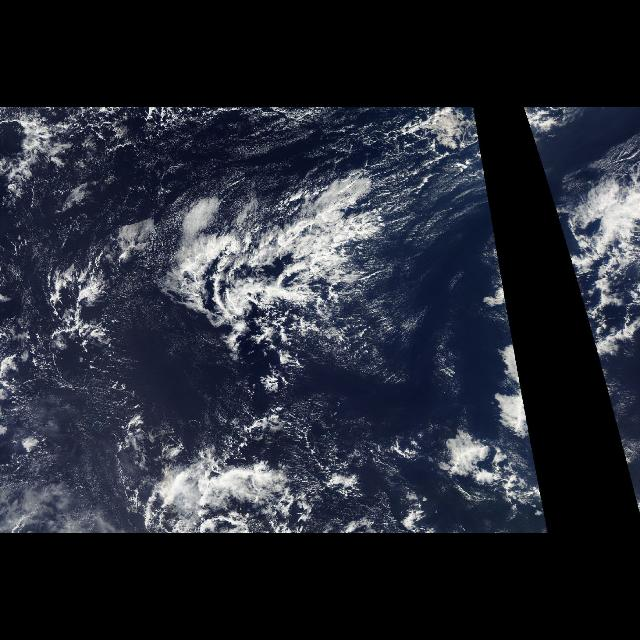Fish: (164, 170, 388, 360)
Gravel: (142, 200, 406, 362)
Sugar: (368, 157, 490, 391), (71, 122, 366, 198)
